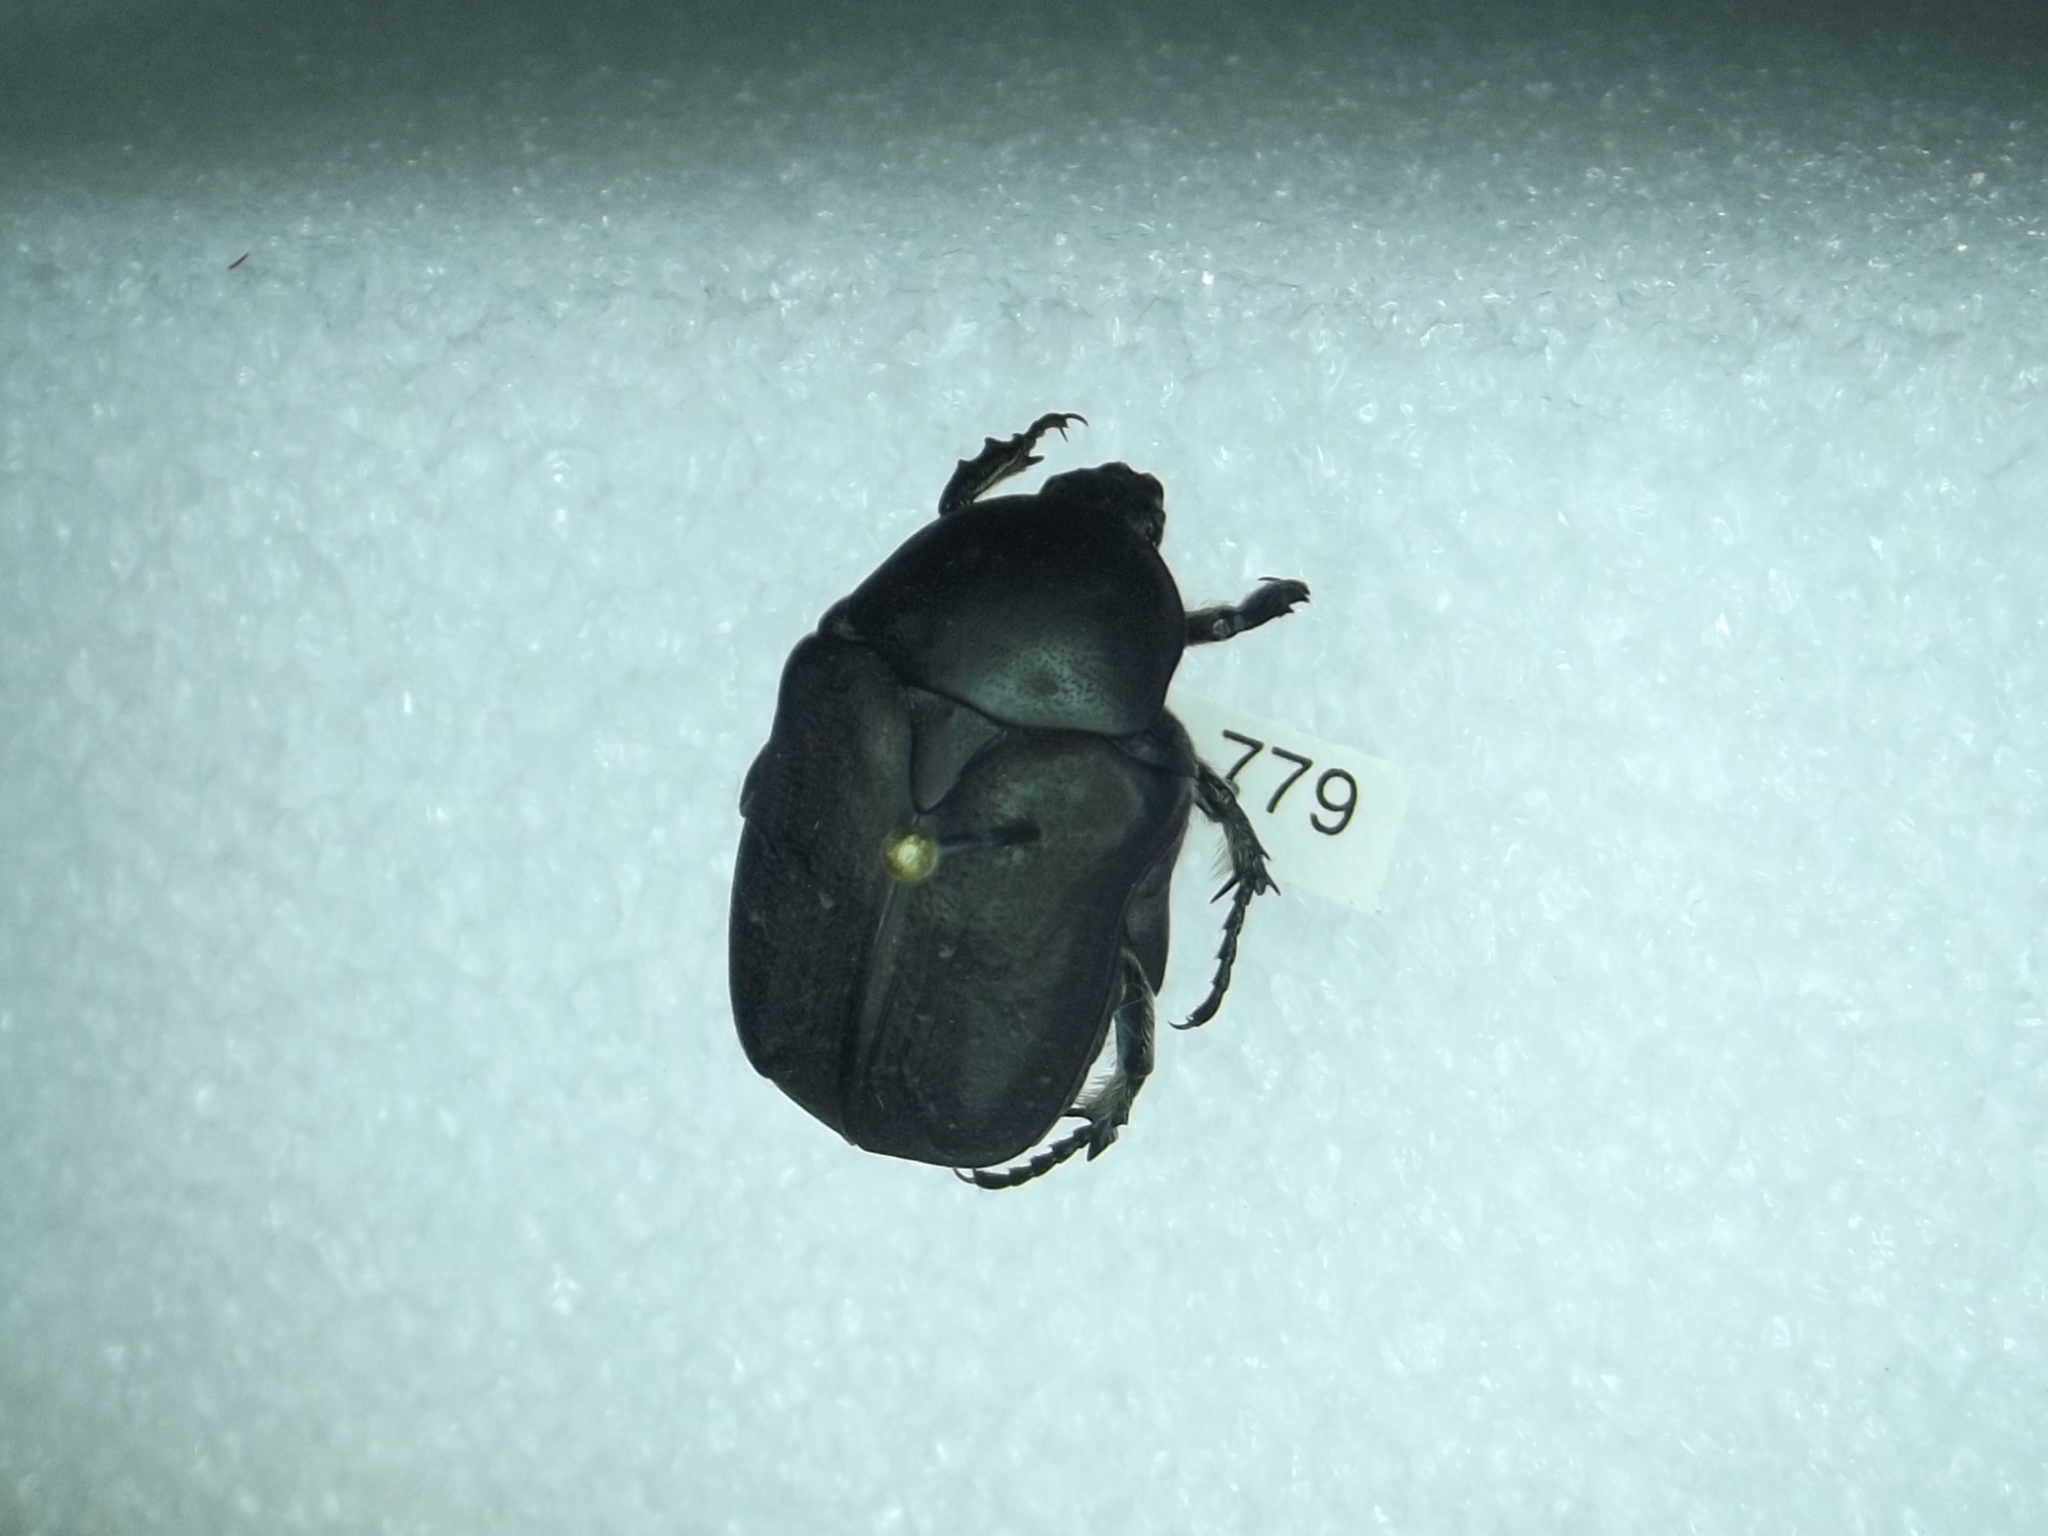Protaetia_asiatica: (703, 395, 1292, 1279)
